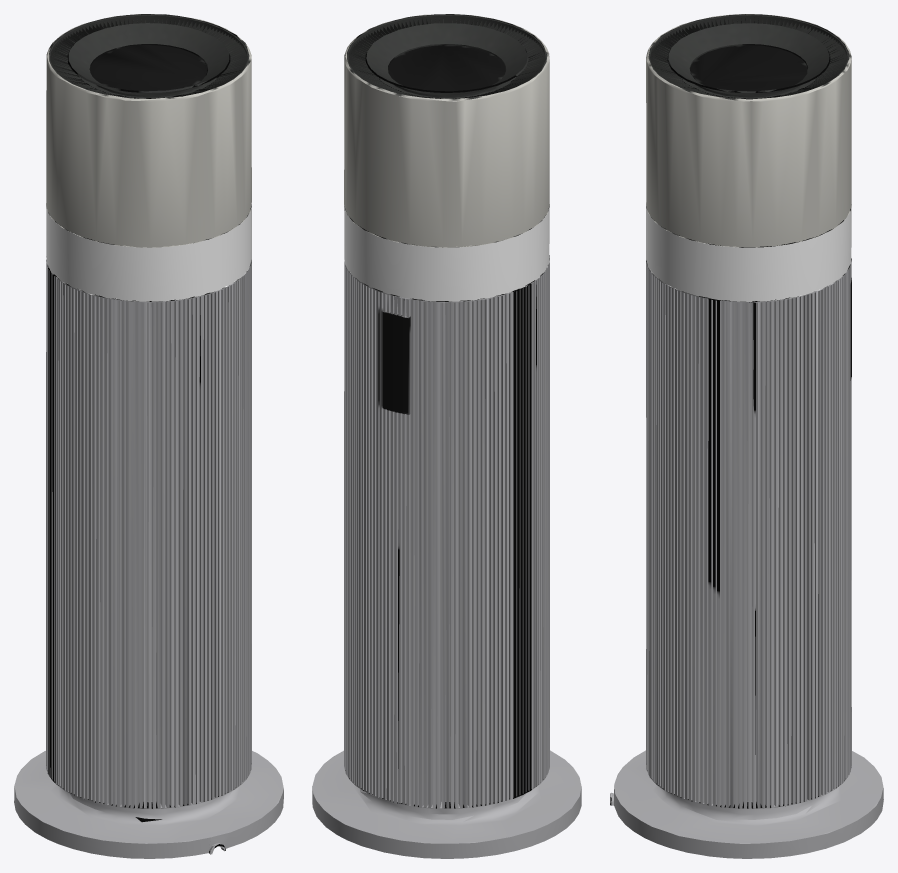
Rendered from humidifier_a01.glb.
The picture shows the model from 3 angles, left to right: view 1: azimuth 30°, elevation 25°; view 2: azimuth 150°, elevation 25°; view 3: azimuth 270°, elevation 25°; orthographic projection.
Visible parts, largest first — view 1: humidifier_a01_lod1; view 2: humidifier_a01_lod1; view 3: humidifier_a01_lod1.
Part boxes in pixels (x1,y1,x2,y2): humidifier_a01_lod1: (14,14,283,858); humidifier_a01_lod1: (312,14,581,858); humidifier_a01_lod1: (610,14,883,858).
Bounding box in the file's own units: 0.3149 × 0.9599 × 0.3194.
Materials: 1 (1 with a texture image).
